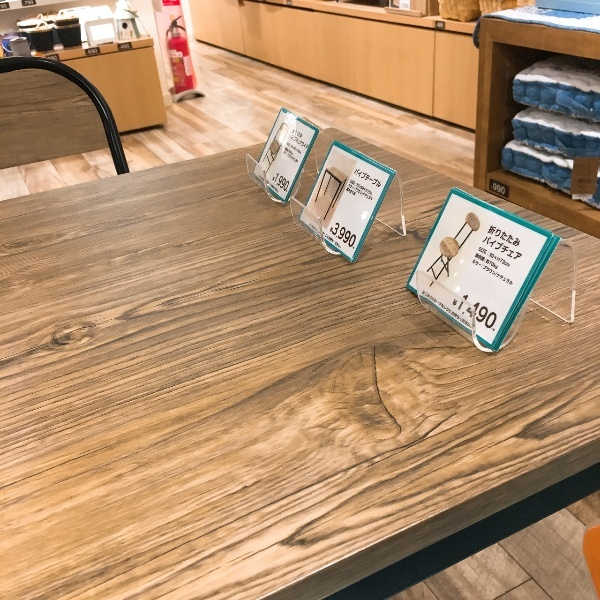text: (433, 289, 448, 331), (449, 289, 464, 331), (465, 293, 480, 333), (481, 293, 496, 333), (337, 221, 352, 250), (481, 258, 496, 287), (497, 258, 512, 287), (497, 235, 512, 263), (321, 223, 336, 249), (497, 224, 512, 249), (481, 246, 496, 269), (497, 246, 512, 269), (513, 235, 525, 263), (424, 289, 432, 331), (465, 289, 473, 331), (369, 167, 383, 189), (353, 183, 368, 202), (356, 167, 368, 189), (310, 223, 320, 249), (353, 179, 368, 196), (513, 224, 523, 249), (260, 174, 272, 194), (488, 235, 496, 263), (292, 133, 304, 151), (278, 172, 288, 193), (474, 258, 480, 287), (289, 142, 302, 155), (289, 151, 299, 165), (293, 128, 304, 140), (337, 223, 342, 249), (491, 224, 496, 249), (273, 174, 279, 194), (353, 221, 357, 250), (1, 3, 16, 10), (488, 258, 496, 271), (454, 298, 464, 308), (369, 183, 374, 202), (49, 54, 59, 63), (305, 133, 310, 151), (369, 179, 374, 196), (119, 42, 128, 51), (88, 47, 96, 57), (497, 293, 499, 333), (481, 252, 487, 263), (349, 183, 352, 202), (284, 151, 288, 165), (347, 187, 352, 197), (24, 1, 32, 7), (289, 172, 291, 193), (289, 147, 293, 156), (477, 252, 480, 263), (353, 187, 356, 197), (513, 258, 514, 287), (497, 258, 499, 271), (97, 47, 99, 57), (46, 54, 48, 63), (286, 147, 288, 156), (351, 179, 352, 196), (33, 1, 35, 7), (494, 328, 496, 333), (129, 42, 130, 51)
